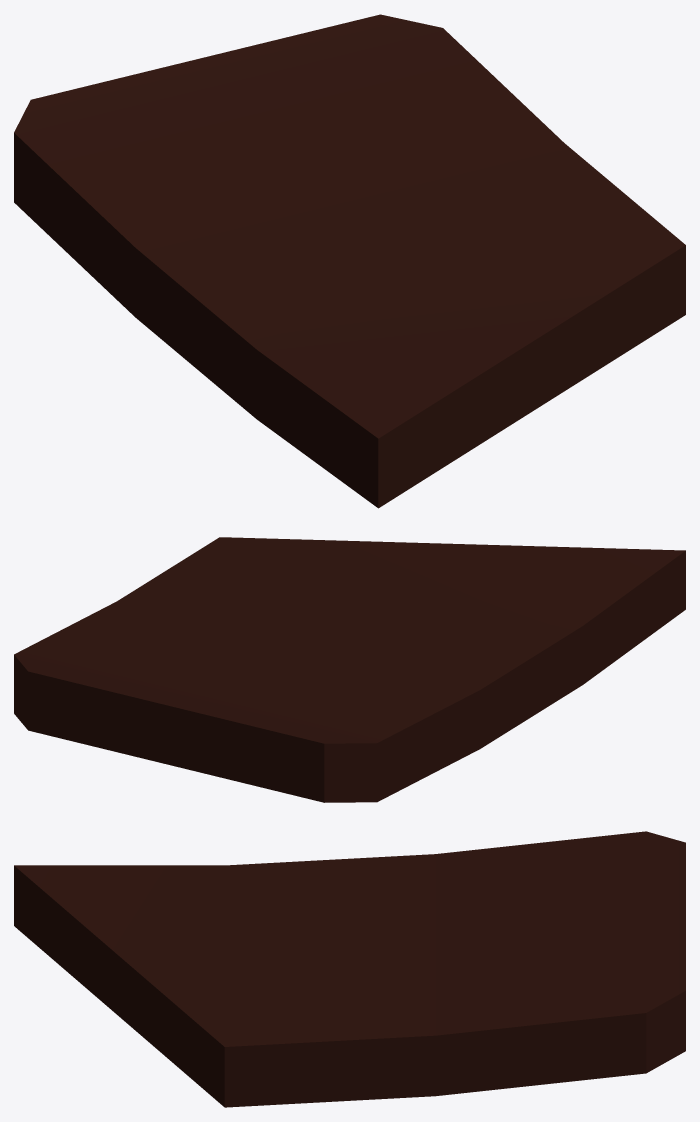
File: BalancoirePart2.fbx
3 renders of one model, top to bottom at view 1: azimuth 30°, elevation 25°; view 2: azimuth 150°, elevation 25°; view 3: azimuth 270°, elevation 25°, orthographic. The views are drawn at different scales.
Parts seen in each view (by area): view 1: BalancoirePart2; view 2: BalancoirePart2; view 3: BalancoirePart2.
Boxes of the visible parts, left/top/right/bottom form: BalancoirePart2: left=14, top=14, right=685, bottom=508; BalancoirePart2: left=14, top=537, right=685, bottom=802; BalancoirePart2: left=14, top=831, right=685, bottom=1107.
Size of the model in its own units: 35.22 by 9.06 by 55.08.
